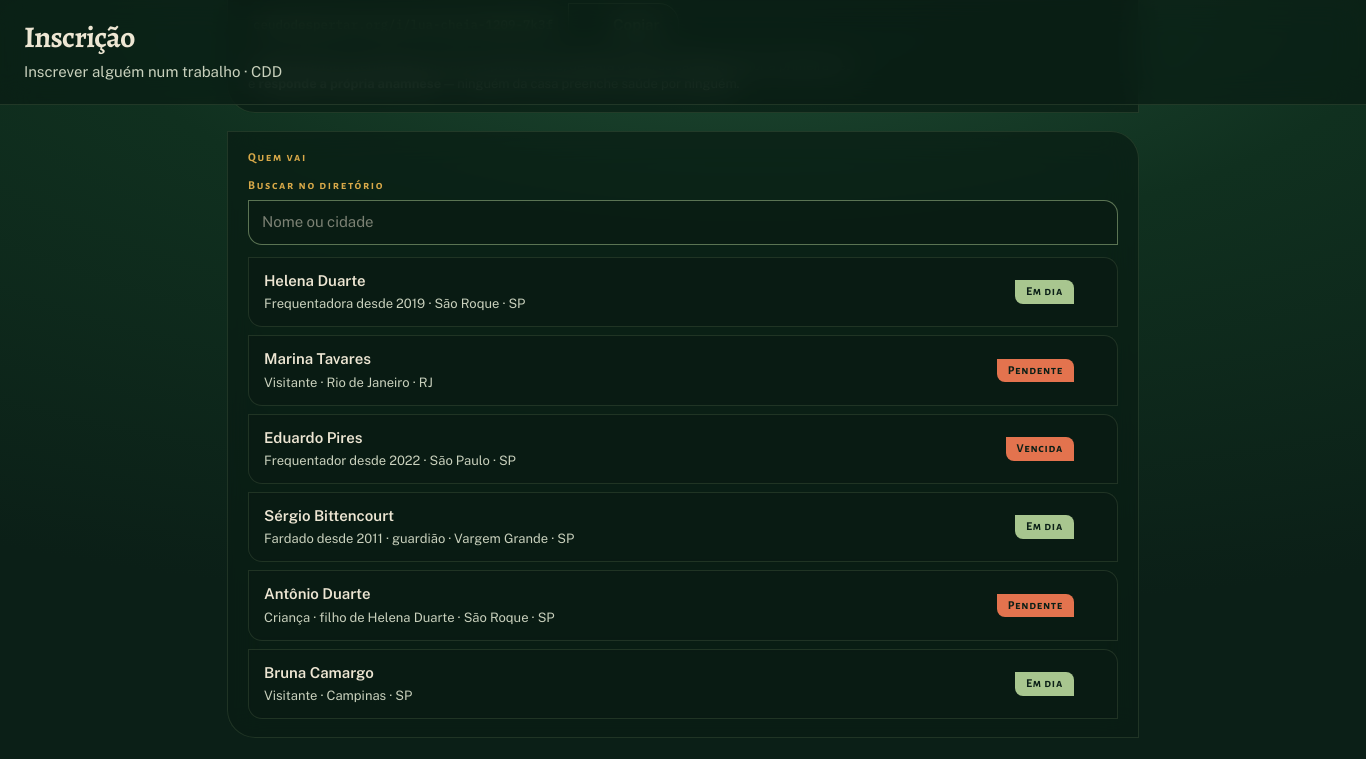
InscricaoPage: tipo de participação e consagração › Bruna de primeira vez com acolhimento realizado — a nota já diz que a conversa está registrada
(page scrolled)
Click the button "Bruna Camargo Visitante · Campinas · SP Em dia": (319, 672) [248, 649, 1118, 719]
(page scrolled)
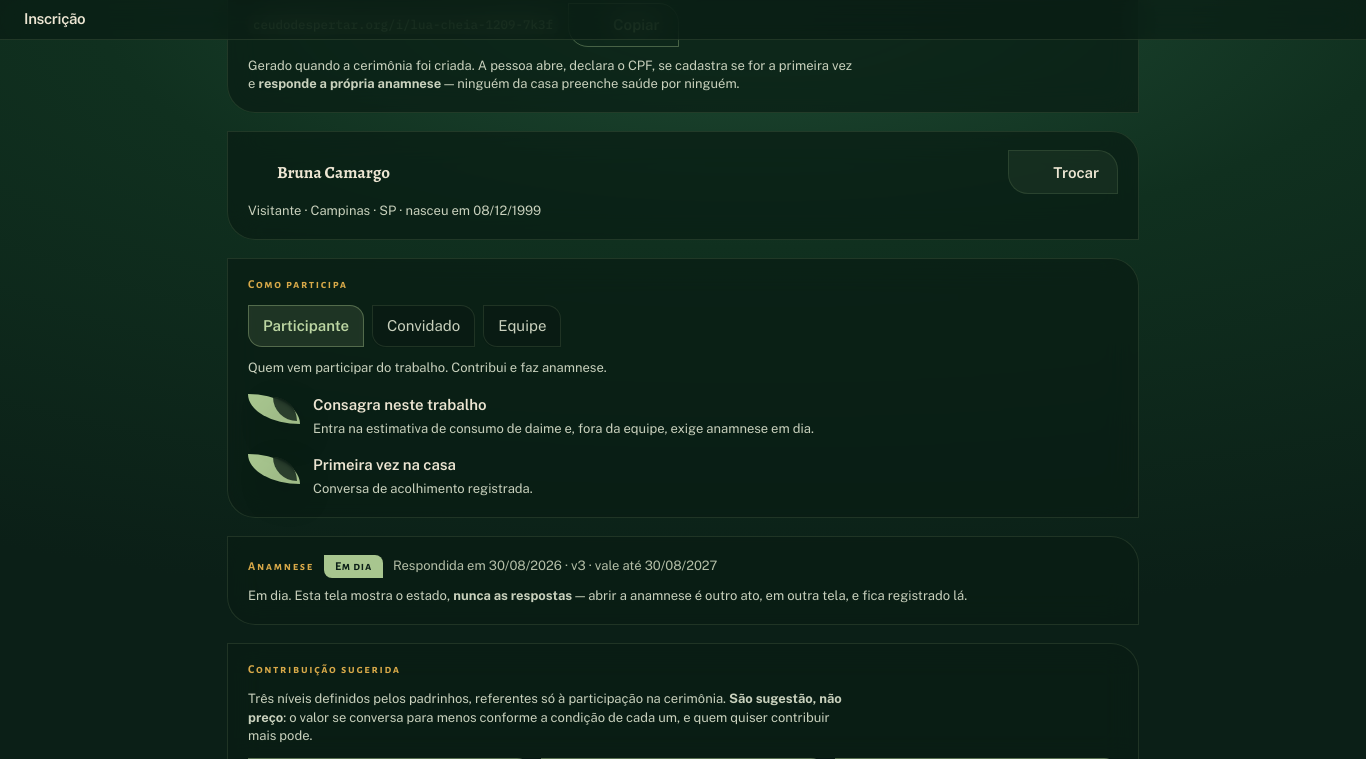
Now the text "Conversa de acolhimento registrada." is shown, box [313, 480, 533, 499]
